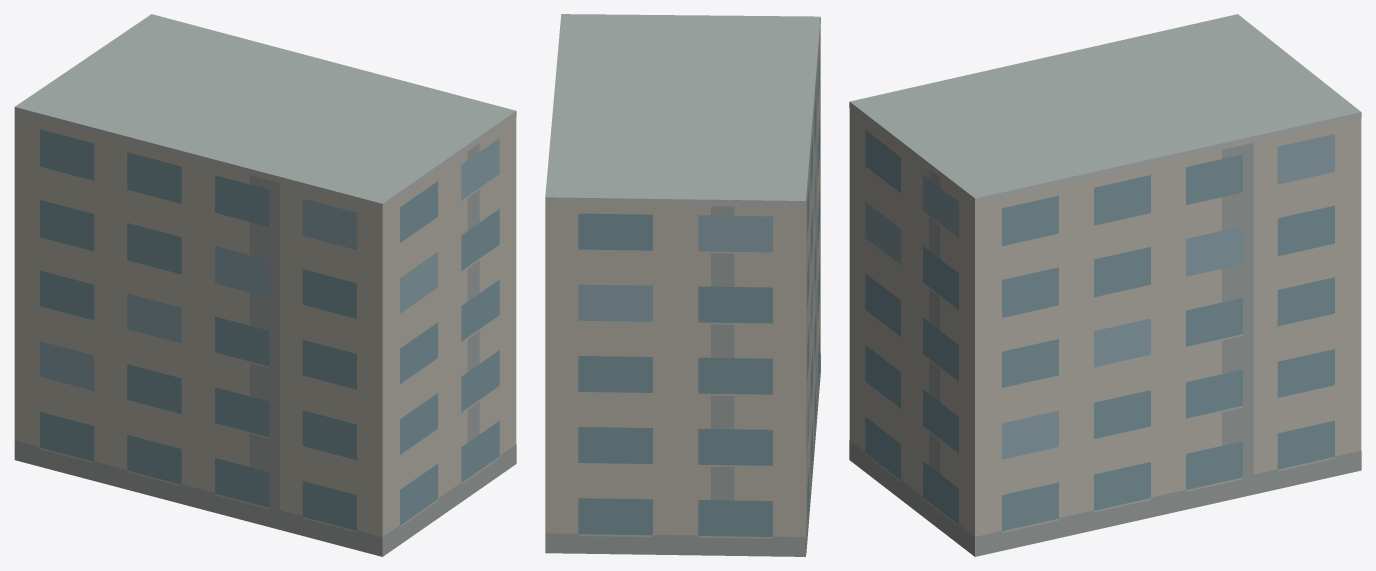
File: survey-upis-32894203.glb
3 renders of one model, left to right at view 1: azimuth 30°, elevation 25°; view 2: azimuth 150°, elevation 25°; view 3: azimuth 270°, elevation 25°, orthographic.
Visible parts, largest first — view 1: survey-upis-32894203.tmp; view 2: survey-upis-32894203.tmp; view 3: survey-upis-32894203.tmp.
Boxes of the visible parts, x1,y1,x2,y2 form: survey-upis-32894203.tmp: [14, 14, 516, 556]; survey-upis-32894203.tmp: [545, 14, 820, 556]; survey-upis-32894203.tmp: [849, 14, 1361, 556].
Bounding box in the file's own units: 14.63 × 13.25 × 17.16.
